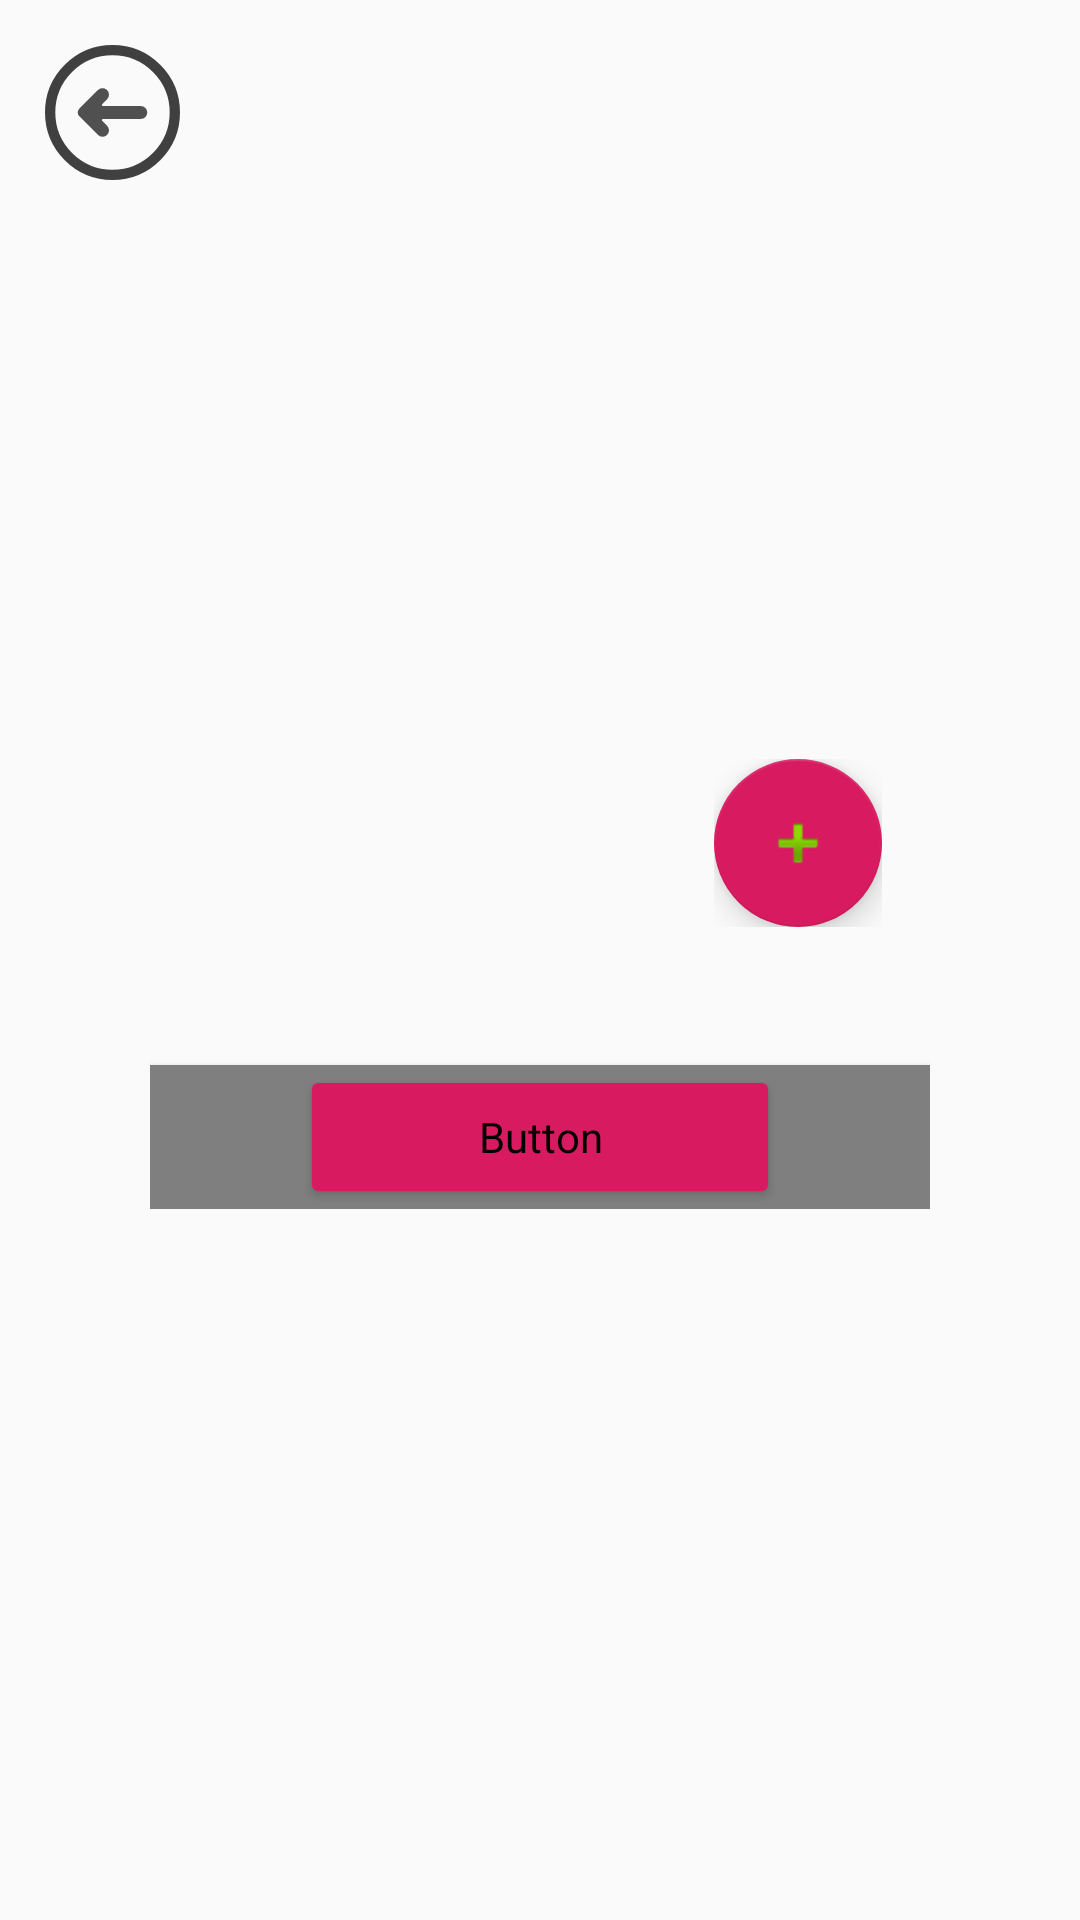

Named icons in this screenshot (1080 x 1920) and their centers, (x=x, y=y):
add: (x=798, y=843)
